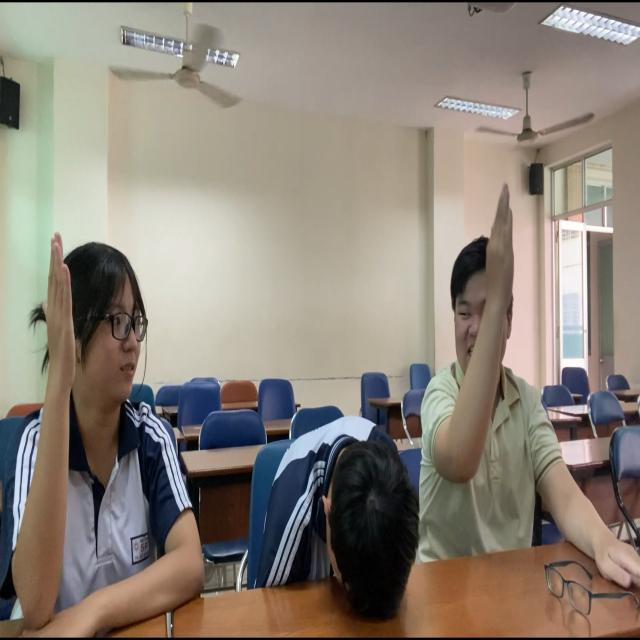raise_hand: (7, 225, 196, 640), (421, 188, 602, 562)
sleep: (241, 406, 420, 614)
